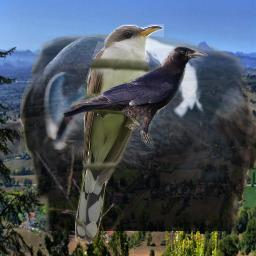Crow: (20, 33, 256, 231), (61, 45, 208, 150)
Cuckoo: (75, 24, 164, 244)
